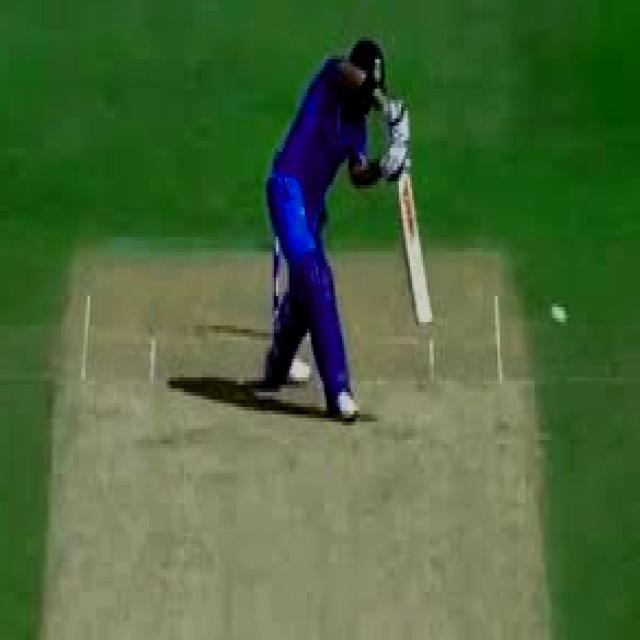toe: (410, 284, 435, 330)
